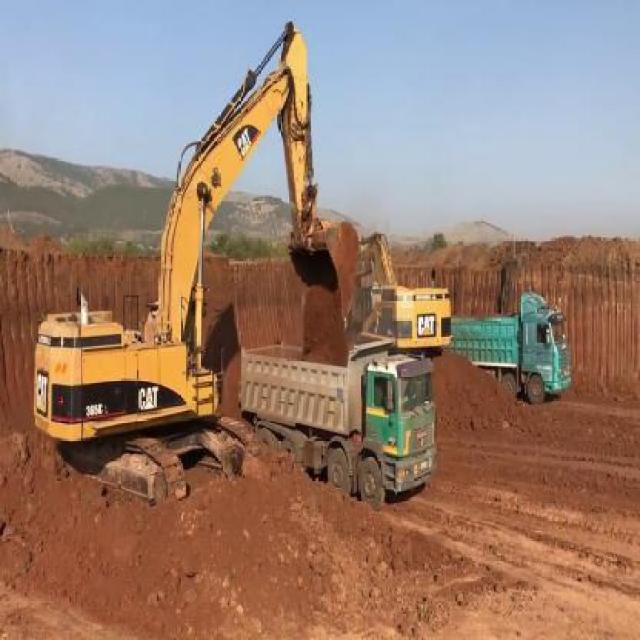Dump Truck: (238, 334, 436, 508), (456, 291, 572, 404)
Excavator: (29, 13, 362, 502), (353, 207, 452, 355)
